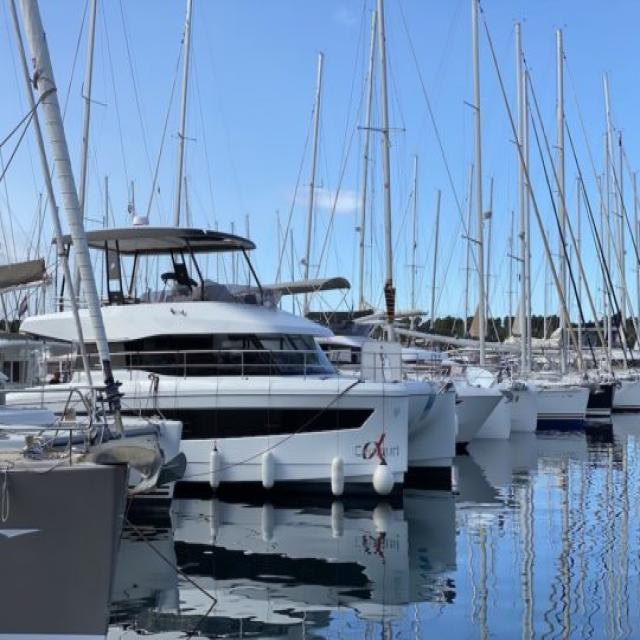houseboat: (13, 191, 426, 474)
